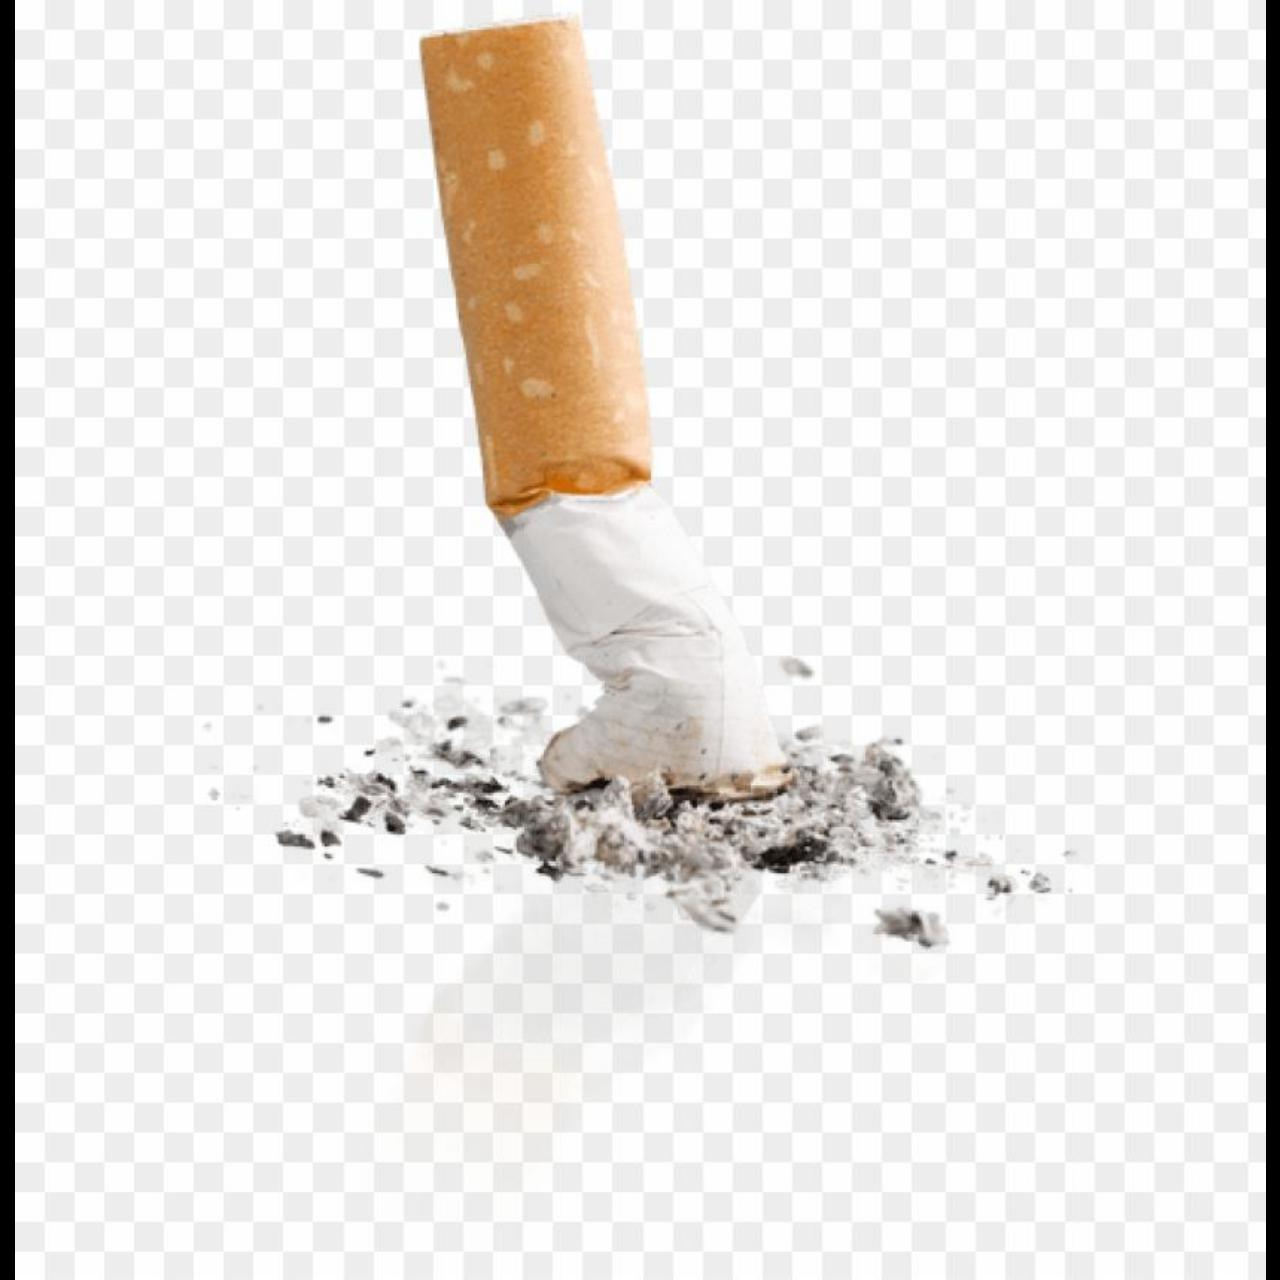cigarettes_butts: (420, 16, 789, 797)
